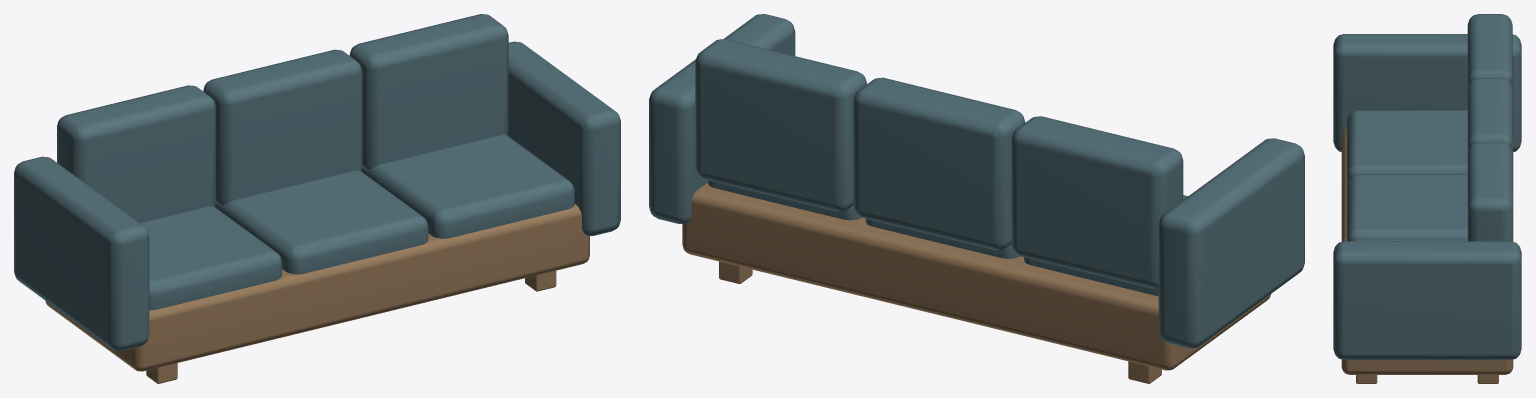
The model's file is P_Sofa.fbx.
3 renders of one model, left to right at view 1: azimuth 30°, elevation 25°; view 2: azimuth 150°, elevation 25°; view 3: azimuth 270°, elevation 25°, orthographic. The views are drawn at different scales.
Parts seen in each view (by area): view 1: P_Sofa; view 2: P_Sofa; view 3: P_Sofa.
Boxes of the visible parts, x1,y1,x2,y2 form: P_Sofa: [14, 14, 620, 383]; P_Sofa: [649, 14, 1304, 383]; P_Sofa: [1333, 14, 1521, 383].
Bounding box in the file's own units: 2.97 × 1.18 × 1.05.
